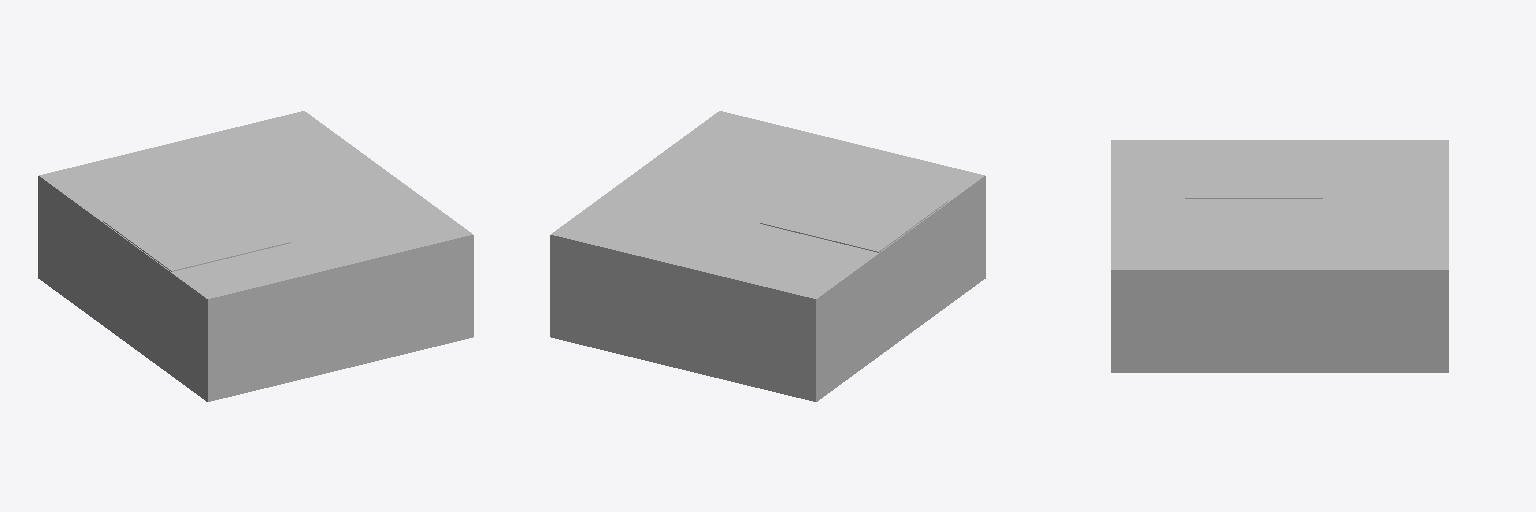
The model's file is NewRoom1HitboxData.obj.
The picture shows the model from 3 angles: view 1: azimuth 30°, elevation 25°; view 2: azimuth 150°, elevation 25°; view 3: azimuth 270°, elevation 25°; orthographic projection.
Parts seen in each view (by area): view 1: Big_Cube.002, Cube.049_Cube.050; view 2: Big_Cube.002, Cube.049_Cube.050; view 3: Big_Cube.002, Cube.049_Cube.050.
Part boxes in pixels (bbox=[...]): Big_Cube.002: bbox=[38, 111, 473, 401]; Cube.049_Cube.050: bbox=[103, 192, 290, 271]; Big_Cube.002: bbox=[550, 111, 985, 401]; Cube.049_Cube.050: bbox=[760, 172, 947, 252]; Big_Cube.002: bbox=[1111, 140, 1448, 372]; Cube.049_Cube.050: bbox=[1185, 140, 1322, 198].
Bounding box in the file's own units: 165 × 61.6 × 182.